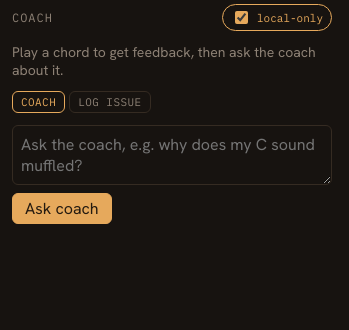
Test: CoachColumn — log issue mode (field-testing debug logger) › switching back to the coach sub-tab still renders the coach chat untouched
The width and height of the screenshot is (349, 330).
Click the tab with test id "coach-tab-log" at (110, 102), box x1=69 y1=91 x2=151 y2=113
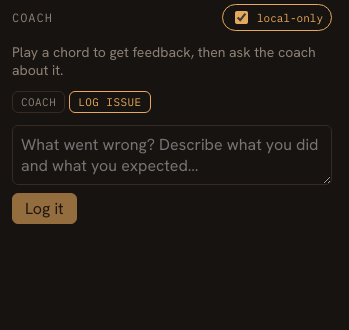
Click the tab with test id "coach-tab-coach" at (39, 102), box x1=12 y1=91 x2=65 y2=113
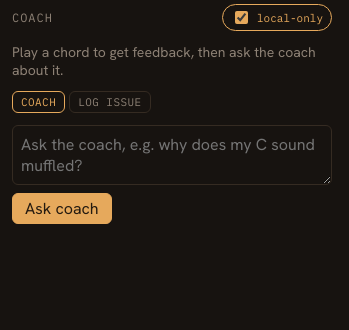
Expected: the text box named "Question for the coach" is shown
Type "why does my C sound muffled?" into the text box named "Question for the coach" at (172, 155), box x1=12 y1=125 x2=332 y2=185
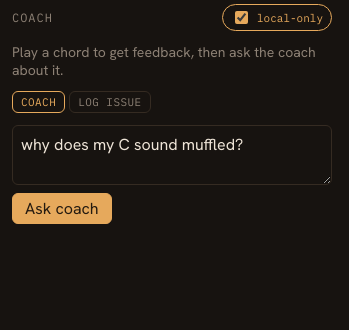
Click the button with test id "coach-ask" at (62, 208), box x1=12 y1=193 x2=112 y2=224
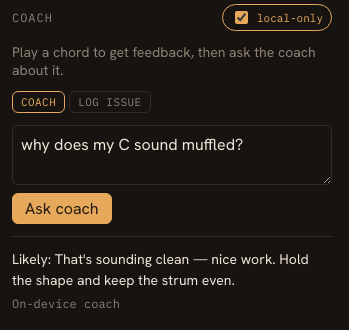
Expected: the element with test id "coach-reply" is shown, x1=12 y1=236 x2=332 y2=313
Expected: the text with test id "coach-source" shows "On-device", x1=12 y1=296 x2=120 y2=311
